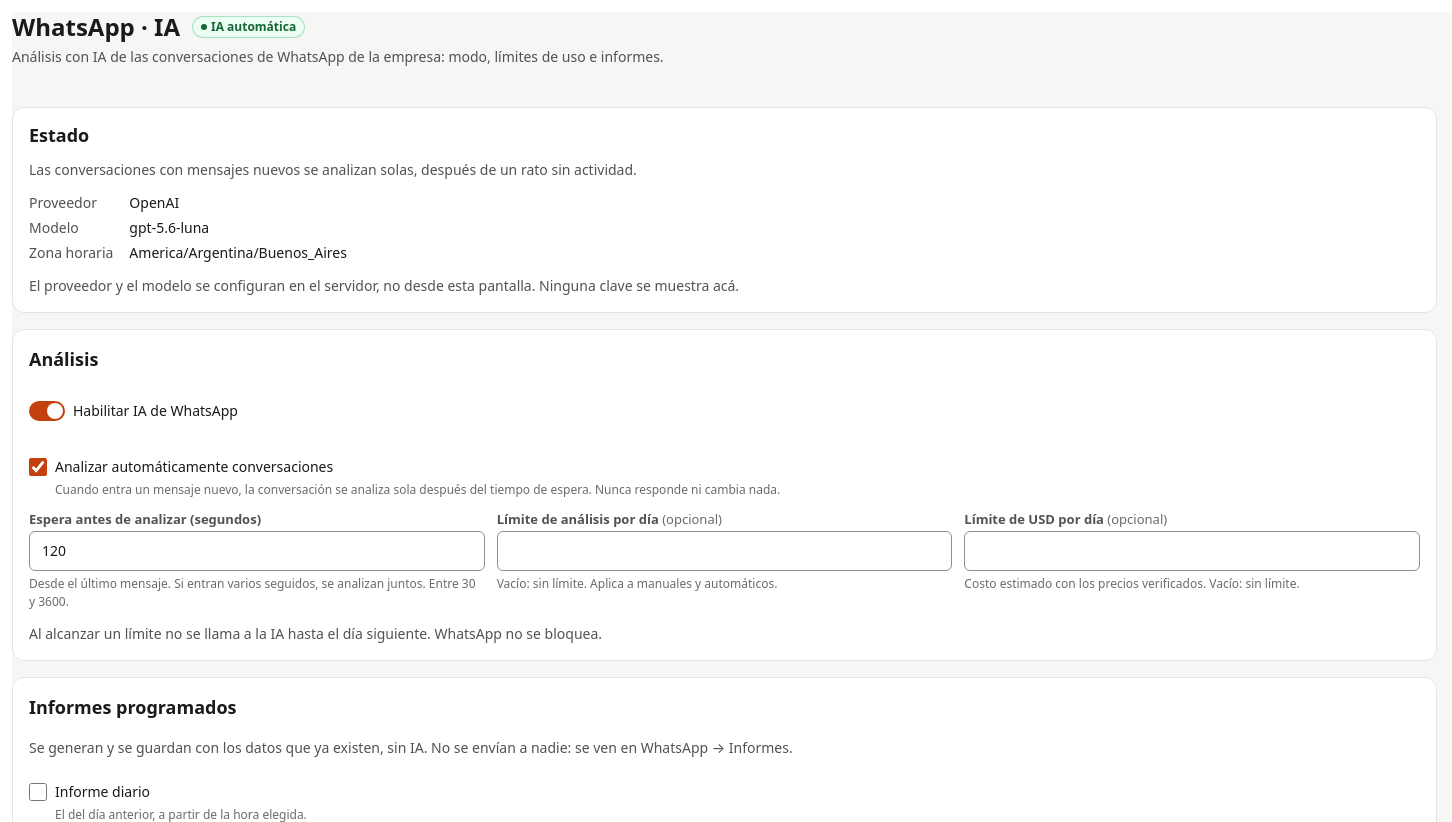
Scenario: Configuración → WhatsApp · IA › apagar la IA explica qué pasa antes de guardar
Click the switch labelled "Habilitar IA de WhatsApp": click(133, 410) left=29, top=400, right=238, bottom=420
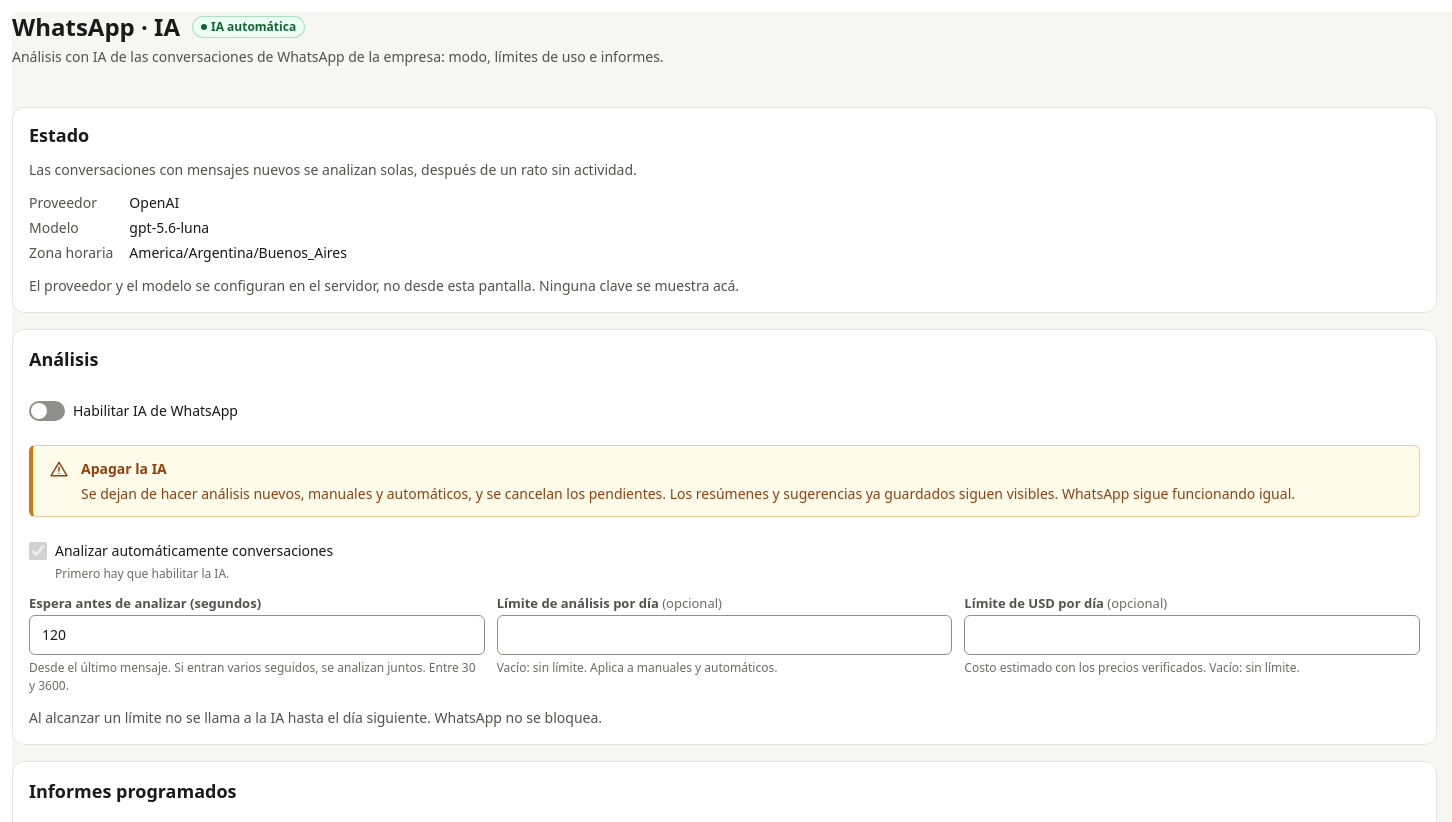
Now the text "WhatsApp sigue funcionando igual" is shown, box left=81, top=484, right=1295, bottom=502
